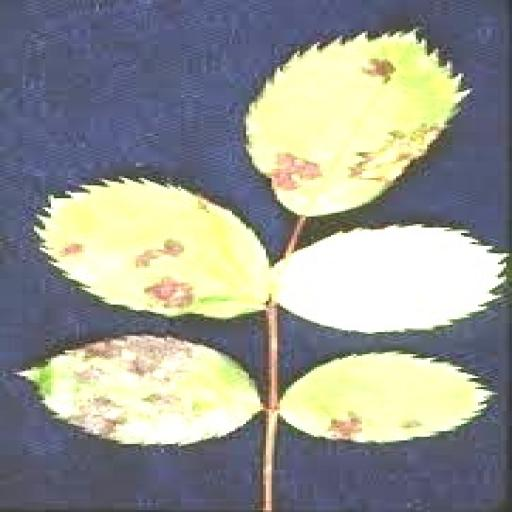downy_mildew: (247, 32, 466, 216), (37, 180, 268, 317), (23, 336, 260, 444), (275, 226, 503, 332), (281, 353, 492, 442)
